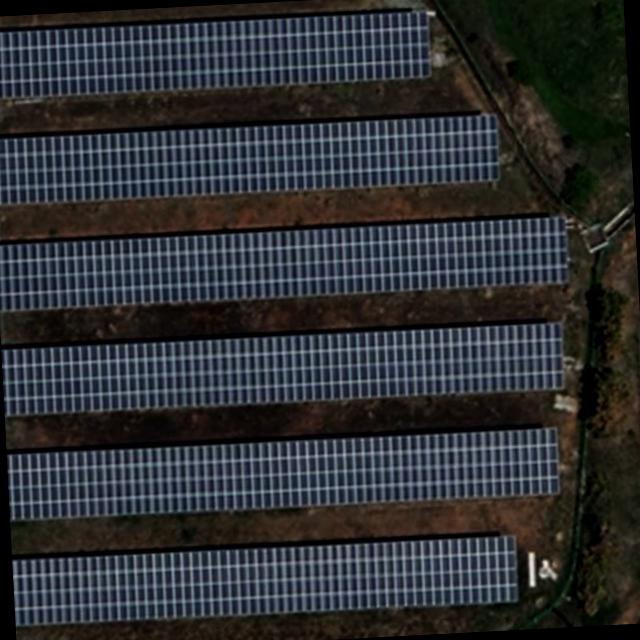solar: (0, 213, 568, 315), (8, 424, 560, 526), (2, 318, 566, 416), (13, 532, 520, 629), (0, 112, 502, 208), (0, 9, 432, 102)
